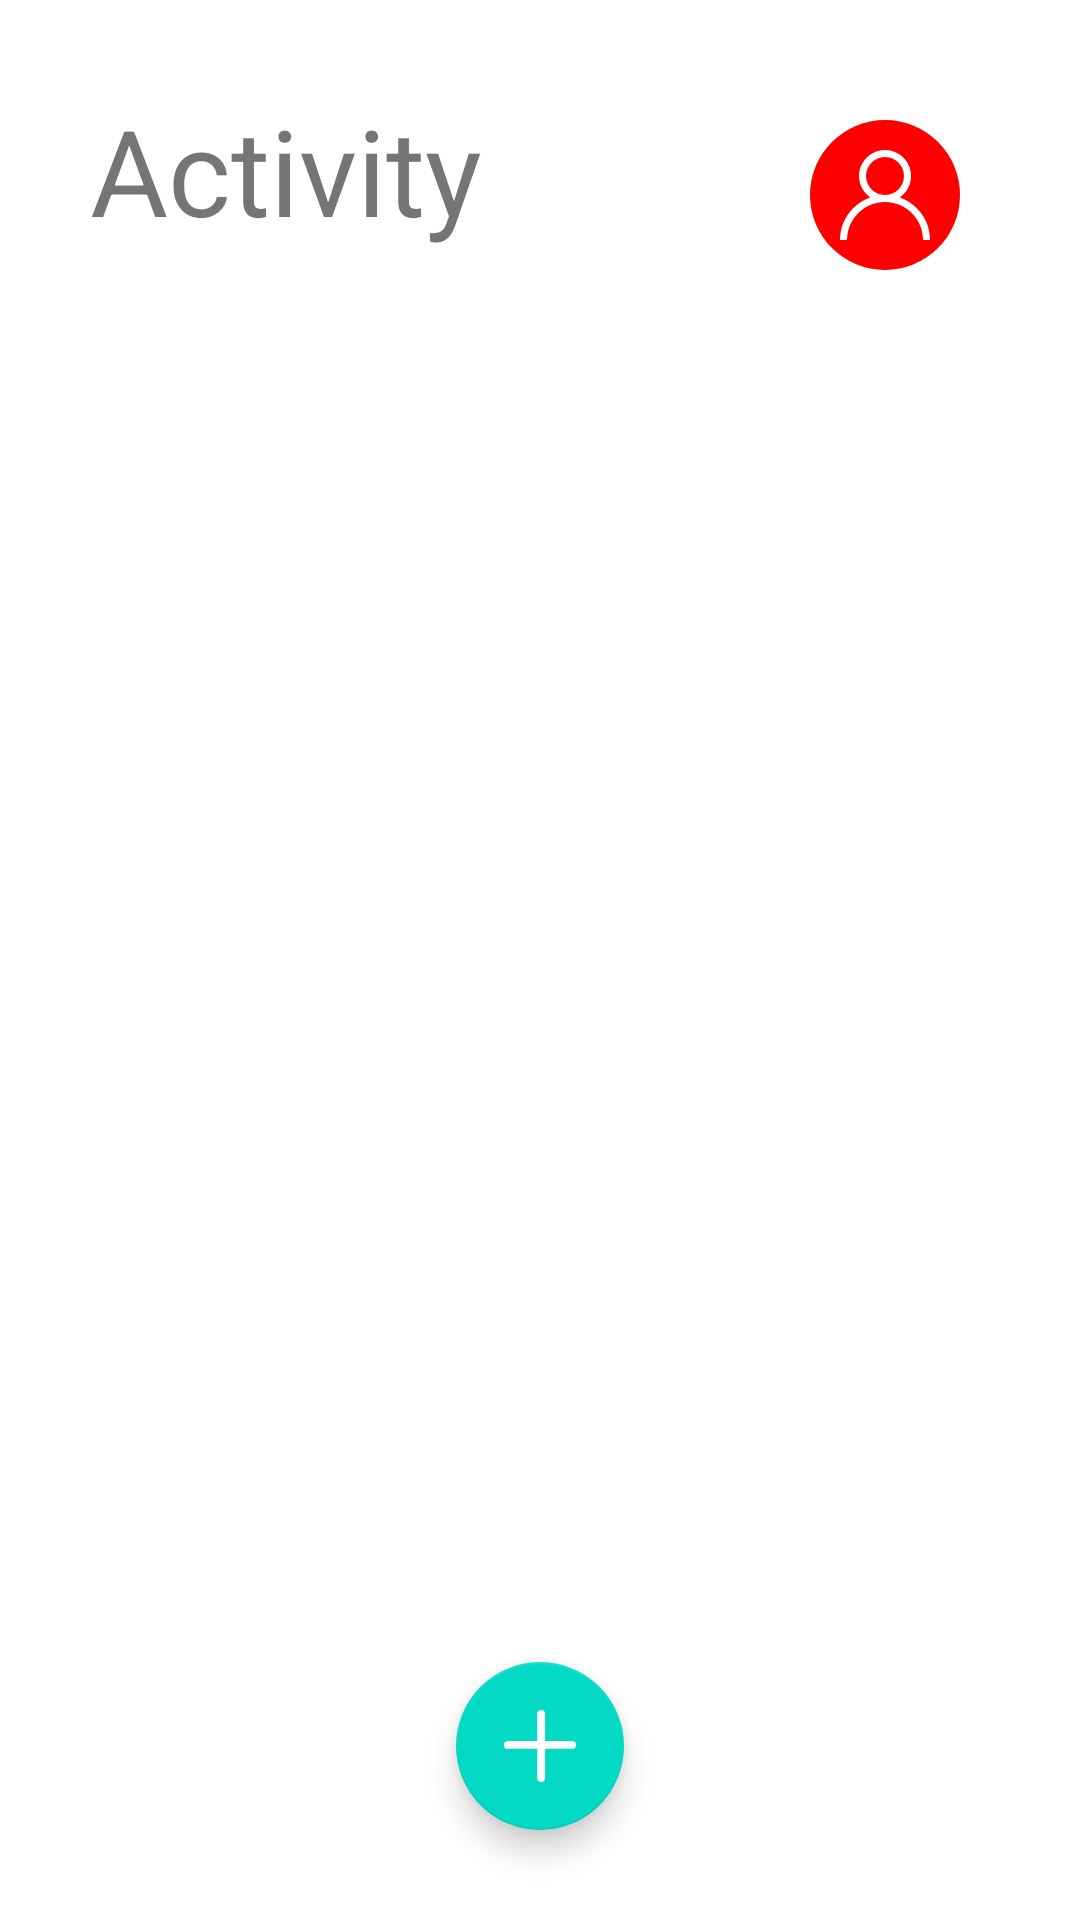

Screen size 1080px×1920px. Icon name, then its box in pixels as (x1, y1, x2, y2):
add: (456, 1662, 624, 1830)
user: (810, 120, 960, 270)
